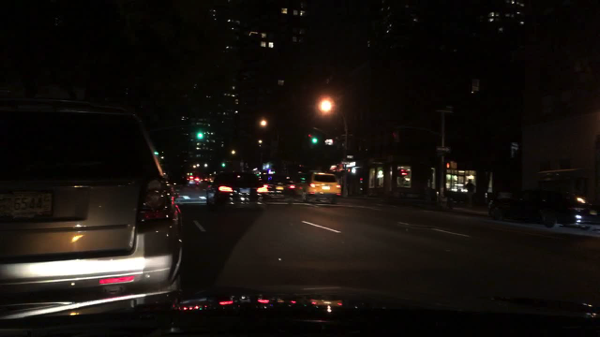car: (0, 99, 183, 303), (485, 190, 598, 232), (205, 171, 259, 206), (295, 170, 342, 206), (258, 173, 295, 202), (185, 173, 200, 186), (200, 176, 209, 183)
person: (465, 179, 475, 205)
traffic light: (397, 168, 407, 177), (446, 161, 457, 169), (196, 131, 204, 140), (392, 131, 400, 140), (310, 137, 318, 144), (154, 150, 160, 157), (221, 162, 227, 168), (308, 133, 313, 139), (347, 167, 351, 173)
traffic sign: (434, 145, 450, 153), (435, 106, 453, 113), (341, 132, 353, 137), (341, 161, 351, 165)
